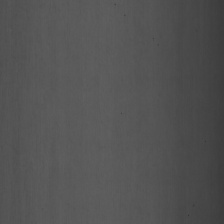inclusion: (151, 33, 159, 48), (112, 2, 117, 8), (123, 10, 126, 19)
